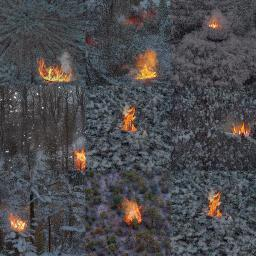Small fire: (0, 1, 85, 85), (86, 2, 170, 85), (87, 88, 176, 166), (183, 2, 245, 55), (0, 195, 50, 244), (108, 188, 158, 237), (198, 184, 238, 231), (215, 108, 256, 148), (65, 142, 90, 180)
